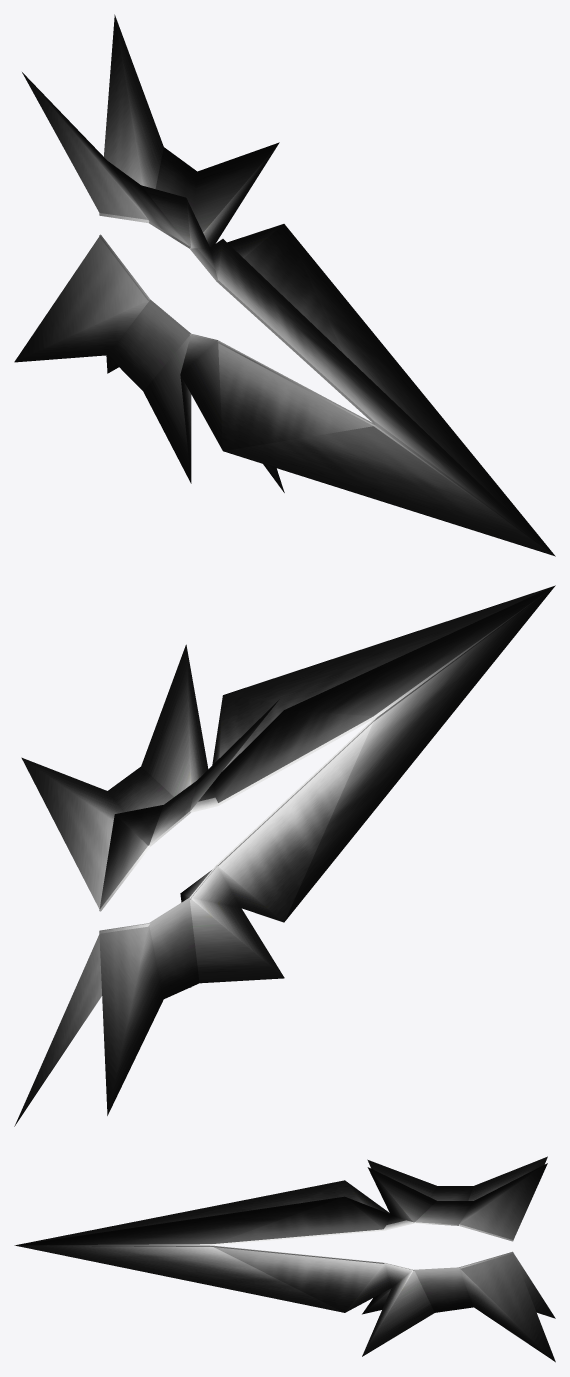
File: shengtianshichangmao003.fbx
The picture shows the model from 3 angles, top to bottom: view 1: azimuth 30°, elevation 25°; view 2: azimuth 150°, elevation 25°; view 3: azimuth 270°, elevation 25°; orthographic projection. The views are drawn at different scales.
Visible parts, largest first — view 1: shengtianshichangmao003; view 2: shengtianshichangmao003; view 3: shengtianshichangmao003.
Part boxes in pixels (x1,y1,x2,y2): shengtianshichangmao003: [14, 14, 555, 556]; shengtianshichangmao003: [14, 585, 555, 1126]; shengtianshichangmao003: [14, 1156, 555, 1362].
Bounding box in the file's own units: 47.52 × 177 × 436.
